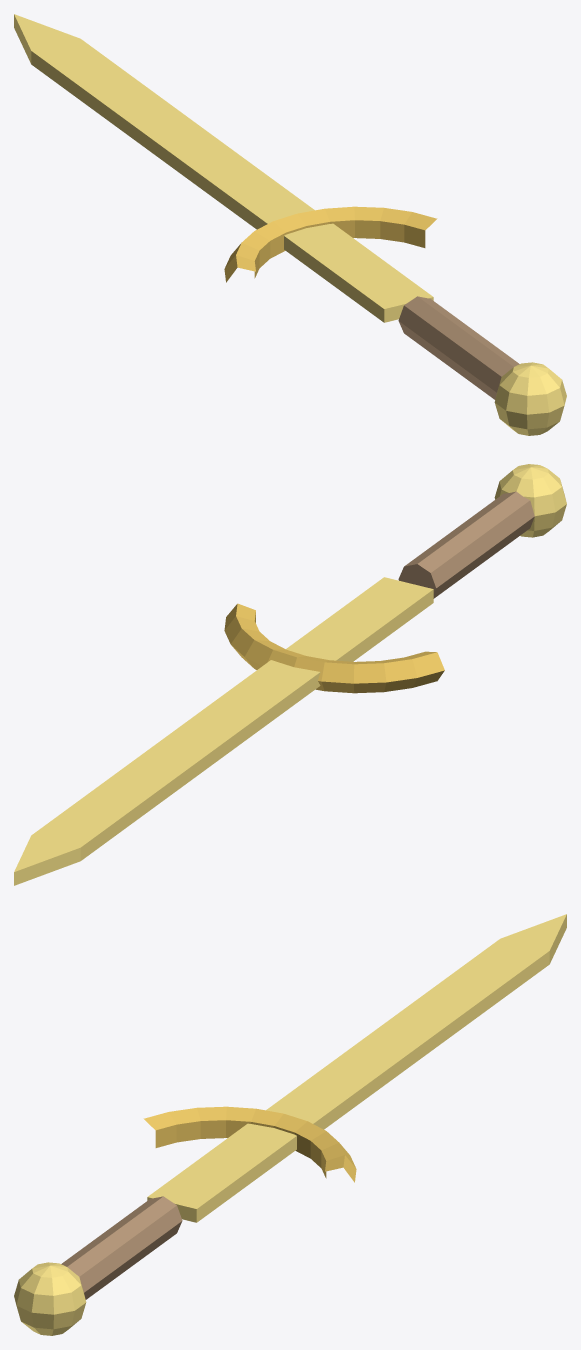
Rendered from gold_sword_held.gltf.
3 views of the same model, one above another, from view 1: azimuth 30°, elevation 25°; view 2: azimuth 150°, elevation 25°; view 3: azimuth 330°, elevation 25° (orthographic).
Parts seen in each view (by area): view 1: furnace_gold_sword_held; view 2: furnace_gold_sword_held; view 3: furnace_gold_sword_held.
Part boxes in pixels (x1,y1,x2,y2): furnace_gold_sword_held: (14, 14, 566, 435); furnace_gold_sword_held: (14, 464, 566, 885); furnace_gold_sword_held: (14, 914, 566, 1335).
Bounding box in the file's own units: 0.1504 × 0.044 × 0.637.
